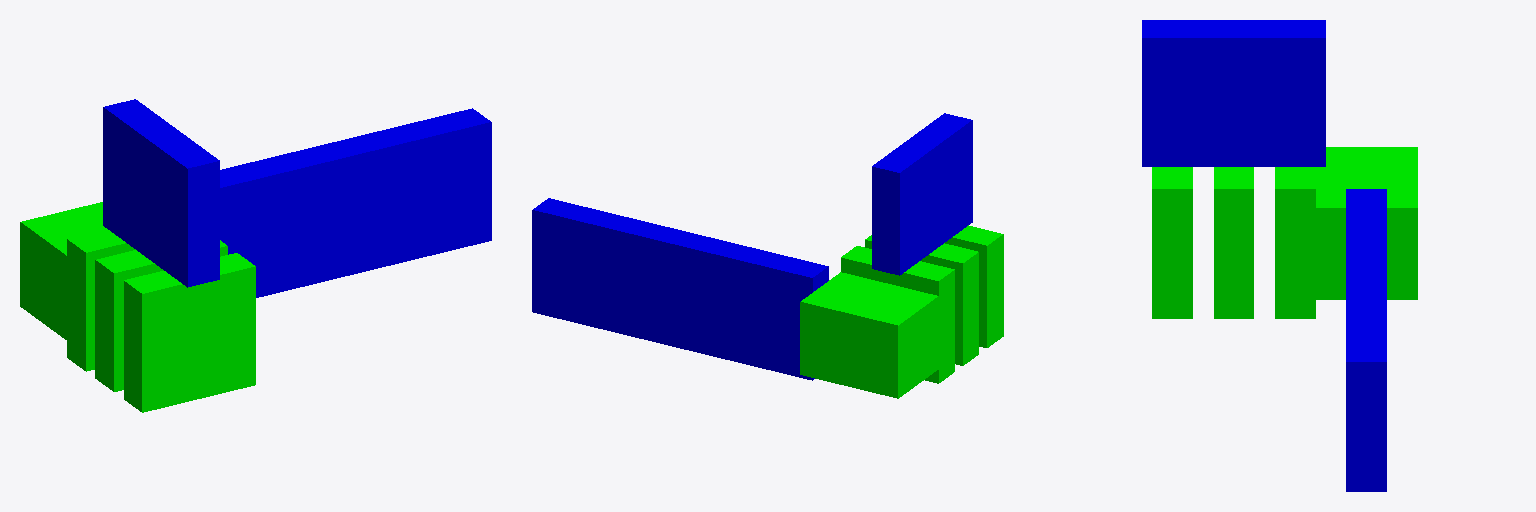
robot.urdf — robot:
<robot name = "robot">
    <link name="root">
        <inertial>
            <origin xyz="0.0 0.0 1.5" rpy="0 0 0"/>
            <mass value="1" />
            <inertia ixx="100" ixy="0" ixz="0" iyy="100" iyz="0" izz="100" />
        </inertial>
        <visual>
            <origin xyz="0.0 0.0 1.5" rpy="0 0 0"/>
            <geometry>
                <box size="0 0 0.0001" />
            </geometry>
            <material name="Green">
                <color rgba="0 1.0 0.0 1.0"/>
            </material>
        </visual>
        <collision>
            <origin xyz="0.0 0.0 1.5" rpy="0 0 0"/>
            <geometry>
                <box size="0 0 0.0001" />
            </geometry>
        </collision>
    </link>
    <joint name="root_000" type="revolute">
       <parent link="root"/>
       <child  link="000"/>
       <origin rpy="0 0 0" xyz="0.0 0.0 1.5" />
     <axis xyz="1 0 0"/>
       <limit effort="0.0" lower="-3.14159" upper="3.14159" velocity="0.0"/>
    </joint>
    <link name="000">
        <inertial>
            <origin xyz="0.0 0.15 0.0" rpy="0 0 0"/>
            <mass value="1" />
            <inertia ixx="100" ixy="0" ixz="0" iyy="100" iyz="0" izz="100" />
        </inertial>
        <visual>
            <origin xyz="0.0 0.15 0.0" rpy="0 0 0"/>
            <geometry>
                <box size="0.2 0.3 0.7" />
            </geometry>
            <material name="Blue">
                <color rgba="0 0.0 1.0 1.0"/>
            </material>
        </visual>
        <collision>
            <origin xyz="0.0 0.15 0.0" rpy="0 0 0"/>
            <geometry>
                <box size="0.2 0.3 0.7" />
            </geometry>
        </collision>
    </link>
    <joint name="000_010" type="revolute">
       <parent link="000"/>
       <child  link="010"/>
       <origin rpy="0 0 0" xyz="0.0 0.3 -0.0" />
     <axis xyz="0 1 0"/>
       <limit effort="0.0" lower="-3.14159" upper="3.14159" velocity="0.0"/>
    </joint>
    <link name="010">
        <inertial>
            <origin xyz="0.0 0.15 -0.0" rpy="0 0 0"/>
            <mass value="1" />
            <inertia ixx="100" ixy="0" ixz="0" iyy="100" iyz="0" izz="100" />
        </inertial>
        <visual>
            <origin xyz="0.0 0.15 -0.0" rpy="0 0 0"/>
            <geometry>
                <box size="0.2 0.3 0.7" />
            </geometry>
            <material name="Blue">
                <color rgba="0 0.0 1.0 1.0"/>
            </material>
        </visual>
        <collision>
            <origin xyz="0.0 0.15 -0.0" rpy="0 0 0"/>
            <geometry>
                <box size="0.2 0.3 0.7" />
            </geometry>
        </collision>
    </link>
    <joint name="010_020" type="revolute">
       <parent link="010"/>
       <child  link="020"/>
       <origin rpy="0 0 0" xyz="0.0 0.3 -0.0" />
     <axis xyz="0 1 0"/>
       <limit effort="0.0" lower="-3.14159" upper="3.14159" velocity="0.0"/>
    </joint>
    <link name="020">
        <inertial>
            <origin xyz="0.0 0.15 -0.0" rpy="0 0 0"/>
            <mass value="1" />
            <inertia ixx="100" ixy="0" ixz="0" iyy="100" iyz="0" izz="100" />
        </inertial>
        <visual>
            <origin xyz="0.0 0.15 -0.0" rpy="0 0 0"/>
            <geometry>
                <box size="0.2 0.3 0.7" />
            </geometry>
            <material name="Blue">
                <color rgba="0 0.0 1.0 1.0"/>
            </material>
        </visual>
        <collision>
            <origin xyz="0.0 0.15 -0.0" rpy="0 0 0"/>
            <geometry>
                <box size="0.2 0.3 0.7" />
            </geometry>
        </collision>
    </link>
    <joint name="020_020-100" type="revolute">
       <parent link="020"/>
       <child  link="020-100"/>
       <origin rpy="0 0 0" xyz="0.0 0.15 -0.35" />
     <axis xyz="0 0 1"/>
       <limit effort="0.0" lower="-3.14159" upper="3.14159" velocity="0.0"/>
    </joint>
    <link name="020-100">
        <inertial>
            <origin xyz="0.0 0.0 -0.35" rpy="0 0 0"/>
            <mass value="1" />
            <inertia ixx="100" ixy="0" ixz="0" iyy="100" iyz="0" izz="100" />
        </inertial>
        <visual>
            <origin xyz="0.0 0.0 -0.35" rpy="0 0 0"/>
            <geometry>
                <box size="0.7 0.2 0.7" />
            </geometry>
            <material name="Green">
                <color rgba="0 1.0 0.0 1.0"/>
            </material>
        </visual>
        <collision>
            <origin xyz="0.0 0.0 -0.35" rpy="0 0 0"/>
            <geometry>
                <box size="0.7 0.2 0.7" />
            </geometry>
        </collision>
    </link>
    <joint name="020-100_020-100-200" type="revolute">
       <parent link="020-100"/>
       <child  link="020-100-200"/>
       <origin rpy="0 0 0" xyz="0.0 0.1 -0.35" />
     <axis xyz="0 1 0"/>
       <limit effort="0.0" lower="-3.14159" upper="3.14159" velocity="0.0"/>
    </joint>
    <link name="020-100-200">
        <inertial>
            <origin xyz="0.0 0.25 -0.0" rpy="0 0 0"/>
            <mass value="1" />
            <inertia ixx="100" ixy="0" ixz="0" iyy="100" iyz="0" izz="100" />
        </inertial>
        <visual>
            <origin xyz="0.0 0.25 -0.0" rpy="0 0 0"/>
            <geometry>
                <box size="0.7 0.5 0.5" />
            </geometry>
            <material name="Green">
                <color rgba="0 1.0 0.0 1.0"/>
            </material>
        </visual>
        <collision>
            <origin xyz="0.0 0.25 -0.0" rpy="0 0 0"/>
            <geometry>
                <box size="0.7 0.5 0.5" />
            </geometry>
        </collision>
    </link>
    <joint name="020-100-200_020-100-200-300" type="revolute">
       <parent link="020-100-200"/>
       <child  link="020-100-200-300"/>
       <origin rpy="0 0 0" xyz="0.35 0.25 -0.0" />
     <axis xyz="1 0 0"/>
       <limit effort="0.0" lower="-3.14159" upper="3.14159" velocity="0.0"/>
    </joint>
    <link name="020-100-200-300">
        <inertial>
            <origin xyz="0.25 0.0 -0.0" rpy="0 0 0"/>
            <mass value="1" />
            <inertia ixx="100" ixy="0" ixz="0" iyy="100" iyz="0" izz="100" />
        </inertial>
        <visual>
            <origin xyz="0.25 0.0 -0.0" rpy="0 0 0"/>
            <geometry>
                <box size="0.5 0.2 0.7" />
            </geometry>
            <material name="Blue">
                <color rgba="0 0.0 1.0 1.0"/>
            </material>
        </visual>
        <collision>
            <origin xyz="0.25 0.0 -0.0" rpy="0 0 0"/>
            <geometry>
                <box size="0.5 0.2 0.7" />
            </geometry>
        </collision>
    </link>
    <joint name="020-100-200-300_020-100-200-310" type="revolute">
       <parent link="020-100-200-300"/>
       <child  link="020-100-200-310"/>
       <origin rpy="0 0 0" xyz="0.5 0.0 -0.0" />
     <axis xyz="1 0 0"/>
       <limit effort="0.0" lower="-3.14159" upper="3.14159" velocity="0.0"/>
    </joint>
    <link name="020-100-200-310">
        <inertial>
            <origin xyz="0.25 0.0 -0.0" rpy="0 0 0"/>
            <mass value="1" />
            <inertia ixx="100" ixy="0" ixz="0" iyy="100" iyz="0" izz="100" />
        </inertial>
        <visual>
            <origin xyz="0.25 0.0 -0.0" rpy="0 0 0"/>
            <geometry>
                <box size="0.5 0.2 0.7" />
            </geometry>
            <material name="Blue">
                <color rgba="0 0.0 1.0 1.0"/>
            </material>
        </visual>
        <collision>
            <origin xyz="0.25 0.0 -0.0" rpy="0 0 0"/>
            <geometry>
                <box size="0.5 0.2 0.7" />
            </geometry>
        </collision>
    </link>
    <joint name="020-100-200-310_020-100-200-320" type="revolute">
       <parent link="020-100-200-310"/>
       <child  link="020-100-200-320"/>
       <origin rpy="0 0 0" xyz="0.5 0.0 -0.0" />
     <axis xyz="1 0 0"/>
       <limit effort="0.0" lower="-3.14159" upper="3.14159" velocity="0.0"/>
    </joint>
    <link name="020-100-200-320">
        <inertial>
            <origin xyz="0.25 0.0 -0.0" rpy="0 0 0"/>
            <mass value="1" />
            <inertia ixx="100" ixy="0" ixz="0" iyy="100" iyz="0" izz="100" />
        </inertial>
        <visual>
            <origin xyz="0.25 0.0 -0.0" rpy="0 0 0"/>
            <geometry>
                <box size="0.5 0.2 0.7" />
            </geometry>
            <material name="Blue">
                <color rgba="0 0.0 1.0 1.0"/>
            </material>
        </visual>
        <collision>
            <origin xyz="0.25 0.0 -0.0" rpy="0 0 0"/>
            <geometry>
                <box size="0.5 0.2 0.7" />
            </geometry>
        </collision>
    </link>
    <joint name="020-100-200-320_020-100-200-330" type="revolute">
       <parent link="020-100-200-320"/>
       <child  link="020-100-200-330"/>
       <origin rpy="0 0 0" xyz="0.5 0.0 -0.0" />
     <axis xyz="1 0 0"/>
       <limit effort="0.0" lower="-3.14159" upper="3.14159" velocity="0.0"/>
    </joint>
    <link name="020-100-200-330">
        <inertial>
            <origin xyz="0.25 0.0 -0.0" rpy="0 0 0"/>
            <mass value="1" />
            <inertia ixx="100" ixy="0" ixz="0" iyy="100" iyz="0" izz="100" />
        </inertial>
        <visual>
            <origin xyz="0.25 0.0 -0.0" rpy="0 0 0"/>
            <geometry>
                <box size="0.5 0.2 0.7" />
            </geometry>
            <material name="Blue">
                <color rgba="0 0.0 1.0 1.0"/>
            </material>
        </visual>
        <collision>
            <origin xyz="0.25 0.0 -0.0" rpy="0 0 0"/>
            <geometry>
                <box size="0.5 0.2 0.7" />
            </geometry>
        </collision>
    </link>
    <joint name="010_010-100" type="revolute">
       <parent link="010"/>
       <child  link="010-100"/>
       <origin rpy="0 0 0" xyz="0.0 0.15 -0.35" />
     <axis xyz="0 0 1"/>
       <limit effort="0.0" lower="-3.14159" upper="3.14159" velocity="0.0"/>
    </joint>
    <link name="010-100">
        <inertial>
            <origin xyz="0.0 0.0 -0.35" rpy="0 0 0"/>
            <mass value="1" />
            <inertia ixx="100" ixy="0" ixz="0" iyy="100" iyz="0" izz="100" />
        </inertial>
        <visual>
            <origin xyz="0.0 0.0 -0.35" rpy="0 0 0"/>
            <geometry>
                <box size="0.7 0.2 0.7" />
            </geometry>
            <material name="Green">
                <color rgba="0 1.0 0.0 1.0"/>
            </material>
        </visual>
        <collision>
            <origin xyz="0.0 0.0 -0.35" rpy="0 0 0"/>
            <geometry>
                <box size="0.7 0.2 0.7" />
            </geometry>
        </collision>
    </link>
    <joint name="000_000-100" type="revolute">
       <parent link="000"/>
       <child  link="000-100"/>
       <origin rpy="0 0 0" xyz="0.0 0.15 -0.35" />
     <axis xyz="0 0 1"/>
       <limit effort="0.0" lower="-3.14159" upper="3.14159" velocity="0.0"/>
    </joint>
    <link name="000-100">
        <inertial>
            <origin xyz="0.0 0.0 -0.35" rpy="0 0 0"/>
            <mass value="1" />
            <inertia ixx="100" ixy="0" ixz="0" iyy="100" iyz="0" izz="100" />
        </inertial>
        <visual>
            <origin xyz="0.0 0.0 -0.35" rpy="0 0 0"/>
            <geometry>
                <box size="0.7 0.2 0.7" />
            </geometry>
            <material name="Green">
                <color rgba="0 1.0 0.0 1.0"/>
            </material>
        </visual>
        <collision>
            <origin xyz="0.0 0.0 -0.35" rpy="0 0 0"/>
            <geometry>
                <box size="0.7 0.2 0.7" />
            </geometry>
        </collision>
    </link>
</robot>

--- What the picture shows (computed from the rendered views, not written in the file) ---
The picture shows the robot from 3 angles, left to right: view 1: azimuth 30°, elevation 25°; view 2: azimuth 150°, elevation 25°; view 3: azimuth 270°, elevation 25°; orthographic projection.
Robot: robot — 12 links, 11 joints (11 revolute); root link root; default pose: every joint at zero.
Visible links, largest first — view 1: [phone redacted] (×5), 000-100, 000, 010-100, 020-100, 020, 010; view 2: [phone redacted] (×5), 020, 020-100, 000-100, 010-100, 000, 010; view 3: [phone redacted] (×5), 010, 000, 020, 020-100, 000-100, 010-100.
Link boxes in pixels (x1,y1,x2,y2): [phone redacted] (×5): [20, 108, 491, 339]; 000-100: [124, 253, 255, 412]; 000: [159, 140, 219, 287]; 010-100: [95, 240, 227, 391]; 020-100: [67, 229, 135, 371]; 020: [103, 99, 163, 245]; 010: [131, 120, 190, 265]; [phone redacted] (×5): [532, 198, 938, 398]; 020: [872, 149, 923, 275]; 020-100: [841, 246, 954, 383]; 000-100: [945, 225, 1003, 347]; 010-100: [865, 235, 978, 365]; 000: [921, 113, 972, 239]; 010: [896, 131, 947, 257]; [phone redacted] (×5): [1316, 147, 1417, 491]; 010: [1203, 20, 1264, 166]; 000: [1142, 20, 1202, 166]; 020: [1265, 20, 1325, 166]; 020-100: [1275, 167, 1315, 318]; 000-100: [1152, 167, 1192, 318]; 010-100: [1214, 167, 1253, 318].
Size in the robot's own frame: 2.7 by 1.35 by 1.4 metres.
Geometry: primitives only (box / cylinder / sphere), no mesh files.
